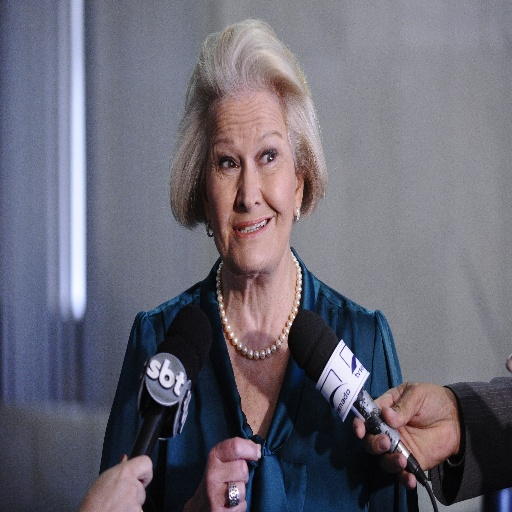hand: (371, 372, 471, 487), (192, 435, 263, 511), (76, 452, 154, 511)
